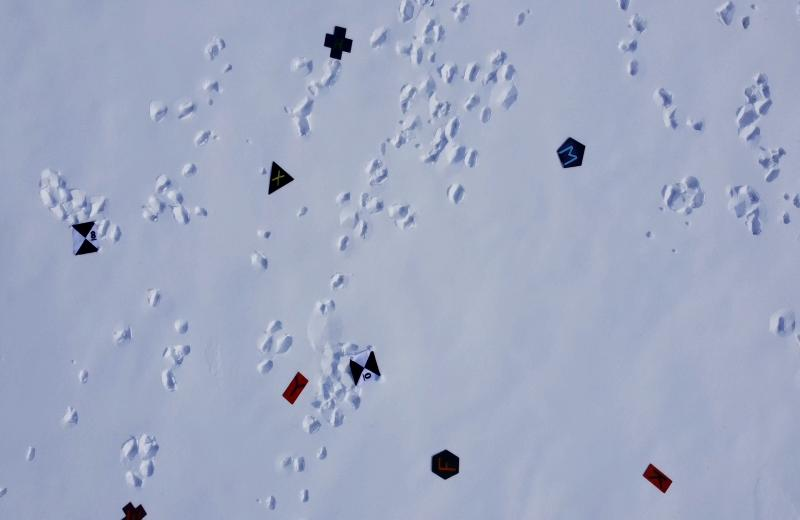Cross: (321, 22, 357, 68), (117, 497, 151, 520)
Hexagon: (426, 446, 466, 484)
Pentagon: (552, 132, 590, 174)
Rectangle: (276, 367, 312, 411), (636, 460, 672, 500)
Triangle: (261, 158, 297, 198)
